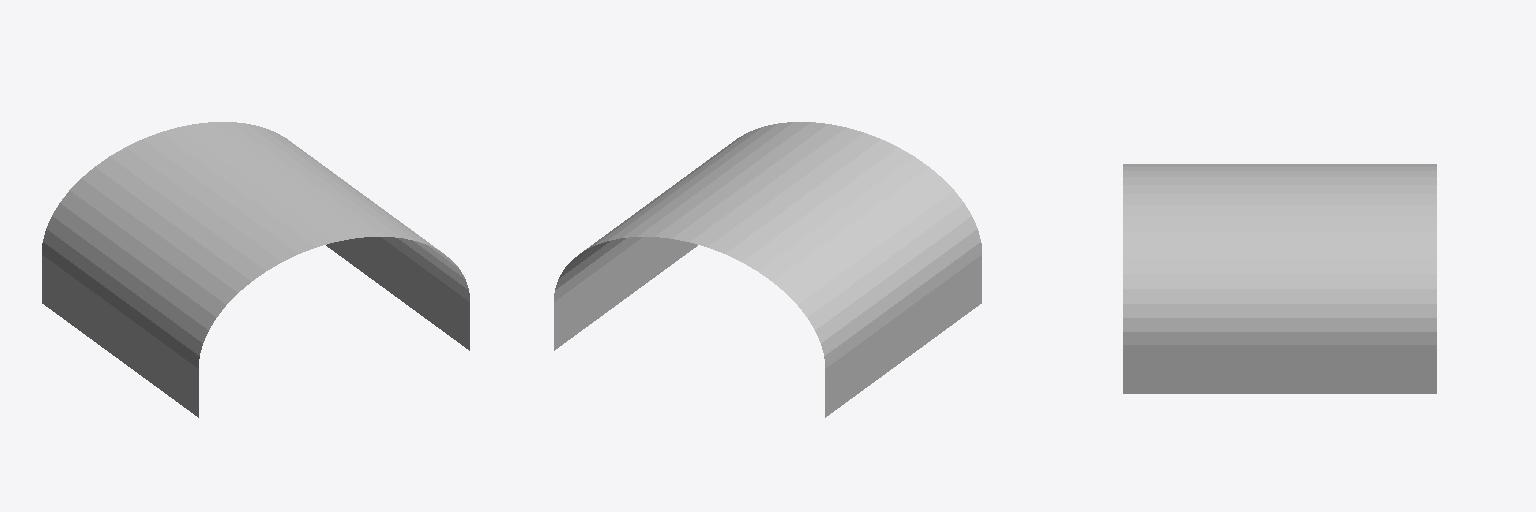
The model's file is aquarium1.obj.
3 renders of one model, left to right at view 1: azimuth 30°, elevation 25°; view 2: azimuth 150°, elevation 25°; view 3: azimuth 270°, elevation 25°, orthographic.
Visible parts, largest first — view 1: AquariumHallway1.002_Cylinder.014; view 2: AquariumHallway1.002_Cylinder.014; view 3: AquariumHallway1.002_Cylinder.014.
Part boxes in pixels (bbox=[...]): AquariumHallway1.002_Cylinder.014: bbox=[42, 122, 469, 417]; AquariumHallway1.002_Cylinder.014: bbox=[554, 122, 981, 417]; AquariumHallway1.002_Cylinder.014: bbox=[1123, 164, 1436, 393].
Size of the model in its own units: 25.6 by 12.8 by 25.6.